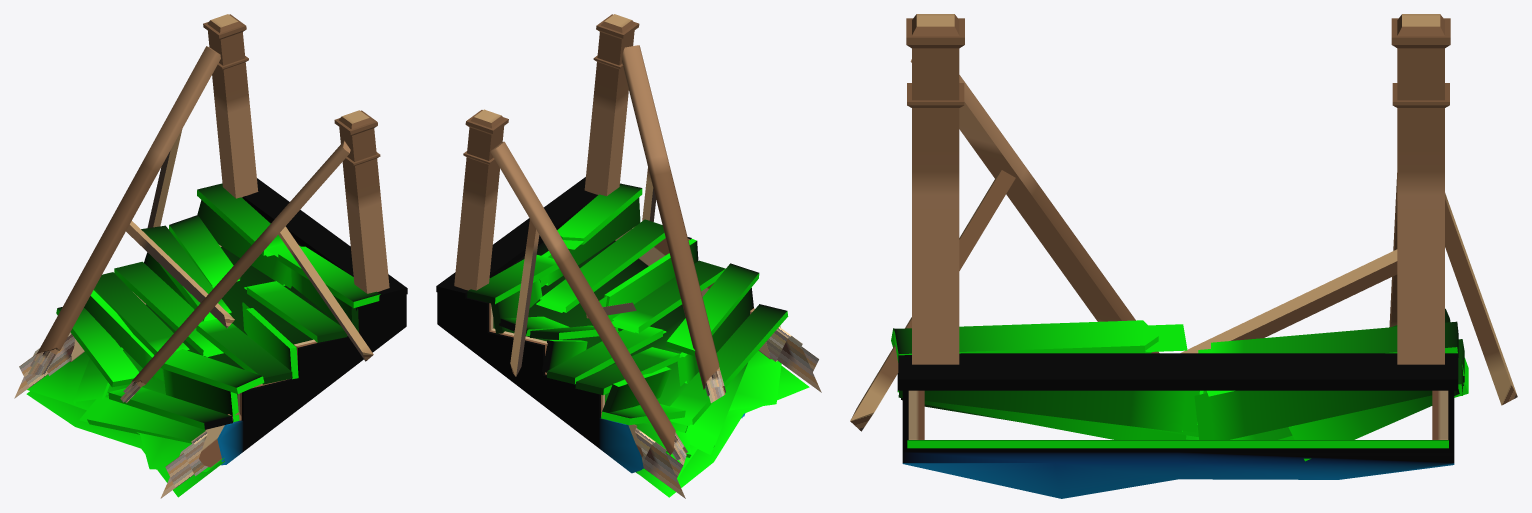
Rendered from DBK_Stairs_Wood_Short_Damage_Top.FBX.
The picture shows the model from 3 angles, left to right: view 1: azimuth 30°, elevation 25°; view 2: azimuth 150°, elevation 25°; view 3: azimuth 270°, elevation 25°; orthographic projection. The views are drawn at different scales.
Visible parts, largest first — view 1: DBK_Stairs_Wood_Short_Damage_Top, DBK_Stairs_Wood_Short_Damage_Top_Rail_L, DBK_Stairs_Wood_Short_Damage_Top_Rail_R, DBK_Stairs_Wood_Short_Damage_Drywall, DBK_Stairs_Wood_Short_Damage_Top_Plywood, DBK_Stairs_Wood_Short_Damage_Top_Support; view 2: DBK_Stairs_Wood_Short_Damage_Top, DBK_Stairs_Wood_Short_Damage_Top_Rail_L, DBK_Stairs_Wood_Short_Damage_Top_Rail_R, DBK_Stairs_Wood_Short_Damage_Drywall, DBK_Stairs_Wood_Short_Damage_Top_Plywood, DBK_Stairs_Wood_Short_Damage_Top_Support; view 3: DBK_Stairs_Wood_Short_Damage_Top, DBK_Stairs_Wood_Short_Damage_Top_Rail_R, DBK_Stairs_Wood_Short_Damage_Top_Rail_L, DBK_Stairs_Wood_Short_Damage_Drywall, DBK_Stairs_Wood_Short_Damage_Top_Plywood, DBK_Stairs_Wood_Short_Damage_Top_Support.
Boxes of the visible parts, left/top/right/bottom form: DBK_Stairs_Wood_Short_Damage_Top: left=56, top=178, right=407, bottom=443; DBK_Stairs_Wood_Short_Damage_Top_Rail_L: left=28, top=14, right=258, bottom=375; DBK_Stairs_Wood_Short_Damage_Top_Rail_R: left=120, top=110, right=389, bottom=402; DBK_Stairs_Wood_Short_Damage_Drywall: left=217, top=294, right=406, bottom=465; DBK_Stairs_Wood_Short_Damage_Top_Plywood: left=26, top=219, right=340, bottom=497; DBK_Stairs_Wood_Short_Damage_Top_Support: left=14, top=245, right=317, bottom=498; DBK_Stairs_Wood_Short_Damage_Top: left=436, top=177, right=788, bottom=457; DBK_Stairs_Wood_Short_Damage_Top_Rail_L: left=454, top=109, right=687, bottom=465; DBK_Stairs_Wood_Short_Damage_Top_Rail_R: left=584, top=14, right=725, bottom=403; DBK_Stairs_Wood_Short_Damage_Drywall: left=437, top=237, right=745, bottom=473; DBK_Stairs_Wood_Short_Damage_Top_Plywood: left=493, top=240, right=809, bottom=497; DBK_Stairs_Wood_Short_Damage_Top_Support: left=489, top=227, right=821, bottom=498; DBK_Stairs_Wood_Short_Damage_Top: left=891, top=308, right=1468, bottom=461; DBK_Stairs_Wood_Short_Damage_Top_Rail_R: left=850, top=14, right=1159, bottom=431; DBK_Stairs_Wood_Short_Damage_Top_Rail_L: left=1180, top=14, right=1517, bottom=405; DBK_Stairs_Wood_Short_Damage_Drywall: left=902, top=390, right=1454, bottom=498; DBK_Stairs_Wood_Short_Damage_Top_Plywood: left=907, top=440, right=1448, bottom=448; DBK_Stairs_Wood_Short_Damage_Top_Support: left=908, top=390, right=1448, bottom=439.
Size of the model in its own units: 132 by 172 by 167.
Materials: 4 (1 with a texture image).
